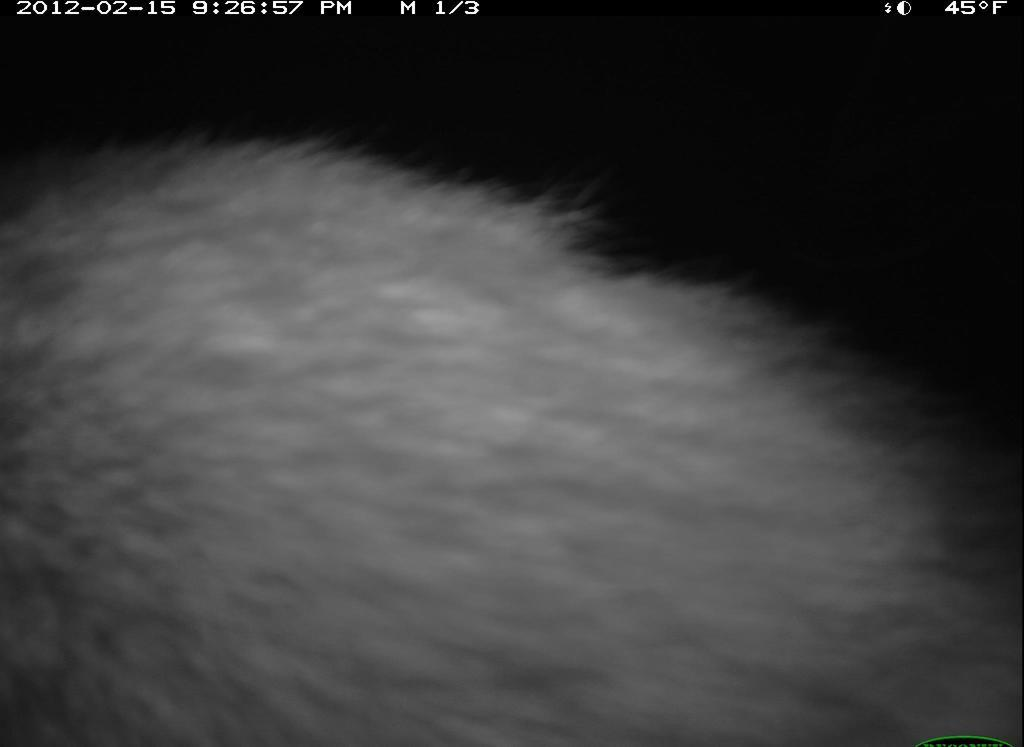raccoon: (20, 117, 1014, 747)
